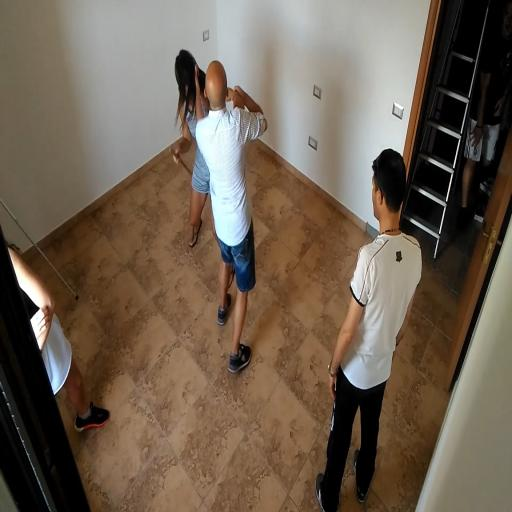violencia: (145, 32, 271, 386)
